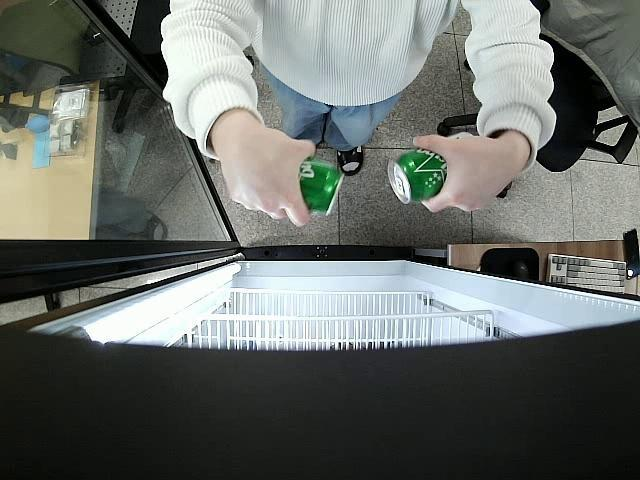12_chilsungCider: (388, 149, 444, 204), (296, 156, 345, 216)
